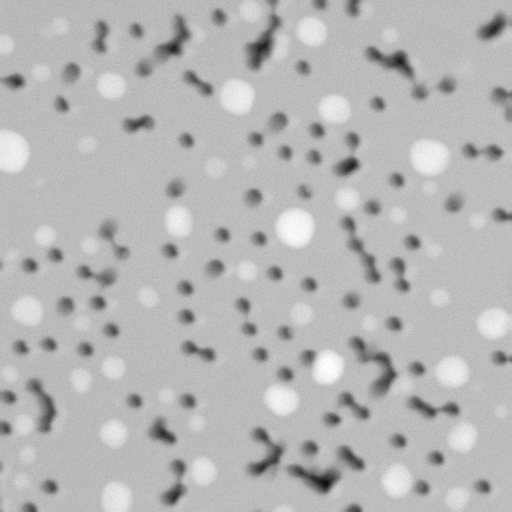Hole: (361, 47, 458, 100), (333, 218, 383, 287), (245, 422, 284, 479), (169, 332, 226, 369), (68, 258, 125, 292), (162, 13, 200, 63), (467, 6, 511, 46), (228, 291, 261, 341), (85, 11, 119, 59), (242, 31, 281, 72), (100, 216, 132, 264), (156, 459, 187, 502), (134, 42, 173, 76), (335, 133, 365, 176), (52, 293, 113, 314), (143, 410, 178, 446), (292, 463, 338, 490), (458, 138, 505, 164), (385, 253, 414, 294), (484, 78, 511, 122), (179, 68, 214, 101), (408, 399, 467, 416), (337, 441, 367, 474), (40, 384, 59, 435), (340, 393, 372, 422), (58, 59, 86, 90), (349, 334, 375, 367), (121, 110, 155, 134), (207, 4, 234, 30), (265, 108, 293, 133), (0, 70, 28, 95), (240, 186, 266, 210), (264, 262, 291, 285), (292, 178, 317, 202), (120, 387, 147, 408), (321, 407, 344, 431), (443, 189, 468, 211), (340, 0, 368, 19), (164, 175, 187, 198), (487, 347, 511, 369), (377, 346, 395, 375), (262, 2, 282, 28), (174, 129, 199, 149), (251, 225, 270, 251), (159, 240, 182, 261), (72, 339, 96, 359), (49, 97, 73, 117), (386, 428, 407, 450), (386, 171, 408, 192), (251, 342, 272, 364), (293, 57, 312, 81), (179, 391, 203, 410), (10, 338, 34, 357), (174, 277, 195, 298), (366, 91, 386, 113), (401, 232, 423, 252), (273, 141, 295, 161), (39, 476, 59, 498), (124, 17, 144, 38), (205, 254, 225, 275), (38, 335, 59, 355), (473, 476, 495, 495), (174, 306, 197, 324), (491, 207, 511, 227), (298, 272, 318, 292), (297, 436, 317, 456), (415, 477, 434, 498), (101, 319, 120, 339), (365, 379, 388, 395), (407, 358, 426, 377), (213, 223, 232, 242), (0, 389, 18, 409), (340, 293, 361, 310), (44, 249, 66, 265), (384, 313, 403, 331), (249, 129, 267, 148), (304, 147, 321, 167), (425, 448, 444, 465), (26, 375, 43, 393), (19, 255, 39, 270), (276, 359, 290, 379), (365, 199, 380, 217), (0, 416, 10, 443), (306, 123, 325, 137), (278, 324, 293, 341), (19, 499, 40, 511), (308, 0, 332, 10), (342, 501, 364, 511), (299, 349, 308, 362)
Particle: (270, 206, 318, 251), (404, 133, 451, 176), (428, 349, 473, 390), (218, 78, 261, 118), (5, 291, 48, 331), (311, 91, 357, 127), (374, 457, 415, 497), (261, 382, 305, 419), (0, 127, 32, 177), (159, 202, 198, 242), (476, 302, 511, 343), (446, 419, 482, 458), (293, 13, 332, 48), (97, 477, 137, 511), (96, 414, 130, 451), (96, 70, 132, 104), (187, 452, 221, 487), (332, 181, 364, 214), (286, 298, 316, 329), (66, 362, 93, 395), (100, 355, 130, 384), (441, 484, 472, 511), (425, 286, 453, 313), (29, 222, 59, 247), (75, 128, 100, 155), (203, 156, 230, 181), (11, 410, 35, 438), (138, 286, 163, 312), (386, 202, 411, 227), (235, 148, 260, 173), (235, 0, 260, 25), (76, 233, 100, 257), (424, 239, 448, 263), (235, 259, 259, 282), (377, 24, 401, 47), (155, 382, 177, 407), (31, 62, 55, 84), (389, 374, 414, 395), (72, 312, 94, 335), (0, 362, 20, 387), (186, 412, 208, 434), (17, 445, 39, 465), (419, 179, 440, 199), (491, 402, 511, 422), (357, 312, 378, 331), (0, 33, 15, 59), (468, 212, 488, 231), (53, 19, 72, 38), (13, 470, 32, 489), (3, 245, 20, 262), (270, 502, 298, 511), (34, 175, 49, 187)
Smear: (309, 347, 347, 389)
